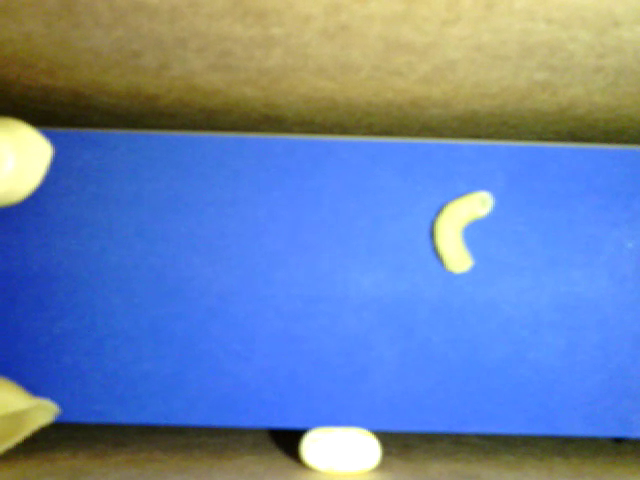elbow: (431, 189, 493, 274)
shell: (1, 374, 62, 454)
